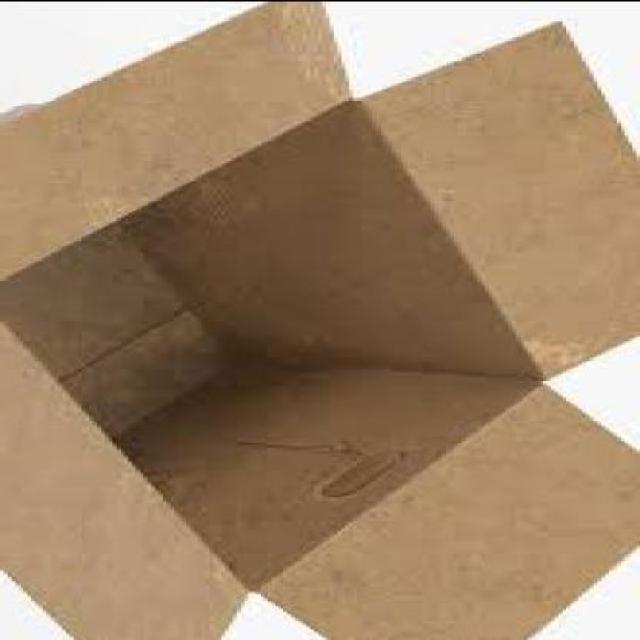CARDBOARD: (3, 1, 639, 638), (360, 17, 638, 375), (260, 378, 638, 638), (3, 1, 359, 277), (3, 305, 252, 638)
